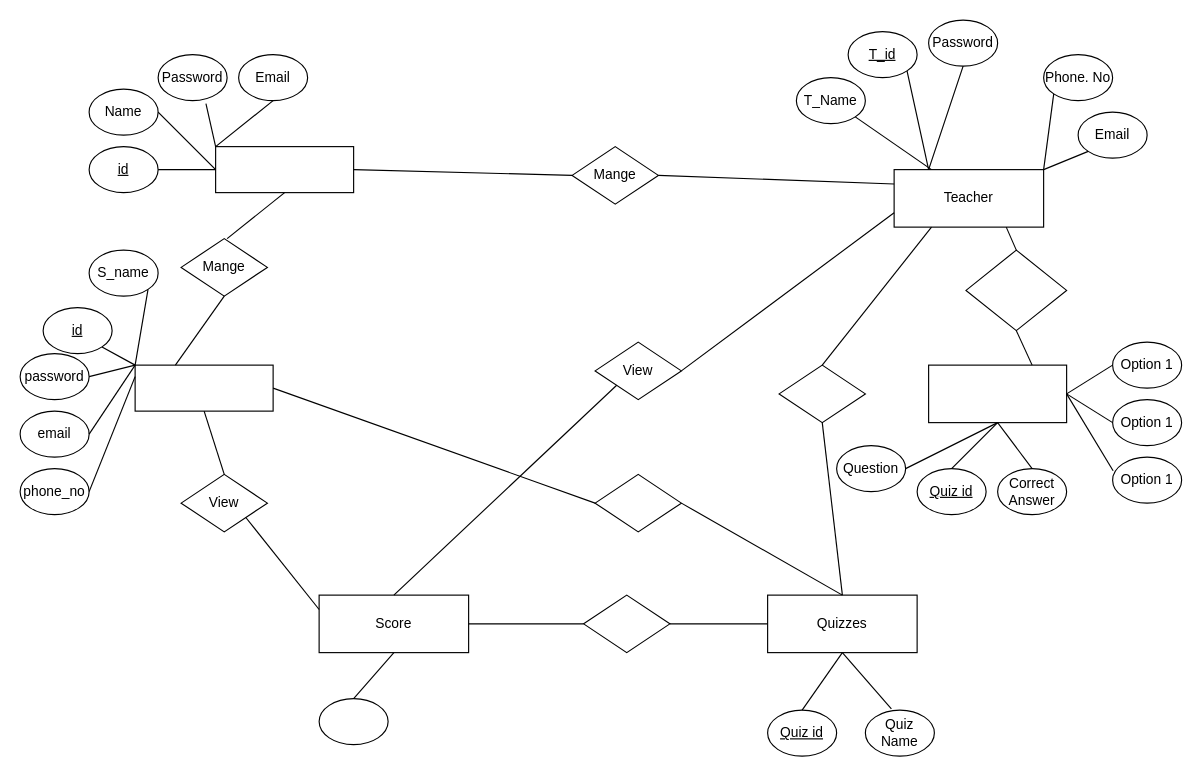
Image size: 1202x776. Some labels were removed from this diagram. Here are the shapes that lost their labels. From the top down, the box of each, then its label:
(214, 145, 354, 193): Admin
(965, 249, 1067, 331): Add/Delete /Update
(134, 364, 273, 411): Student
(778, 364, 865, 423): Create
(927, 364, 1067, 423): Questions
(594, 473, 681, 532): Take
(582, 594, 670, 653): Store
(318, 697, 388, 745): Scorepoint
